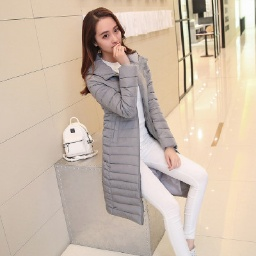face: (80, 12, 135, 75)
